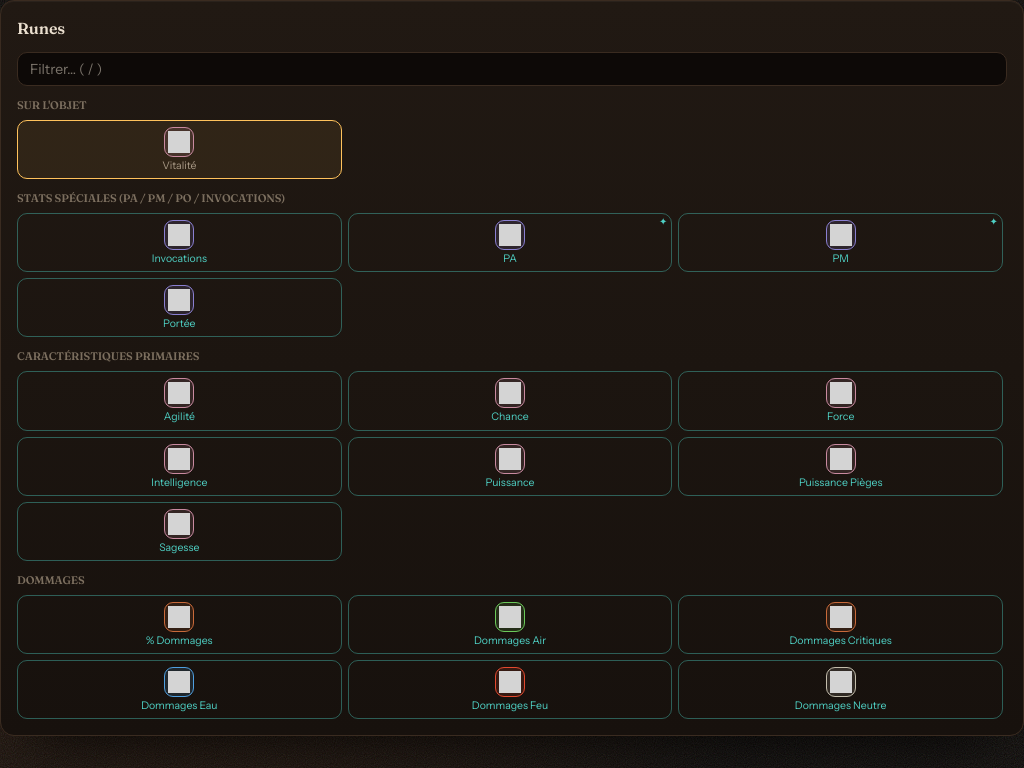
Test case: RunePalette › le filtre sans accents masque les autres tuiles
Type "vitalite" into the search field at (512, 69), box [17,52,1007,86]
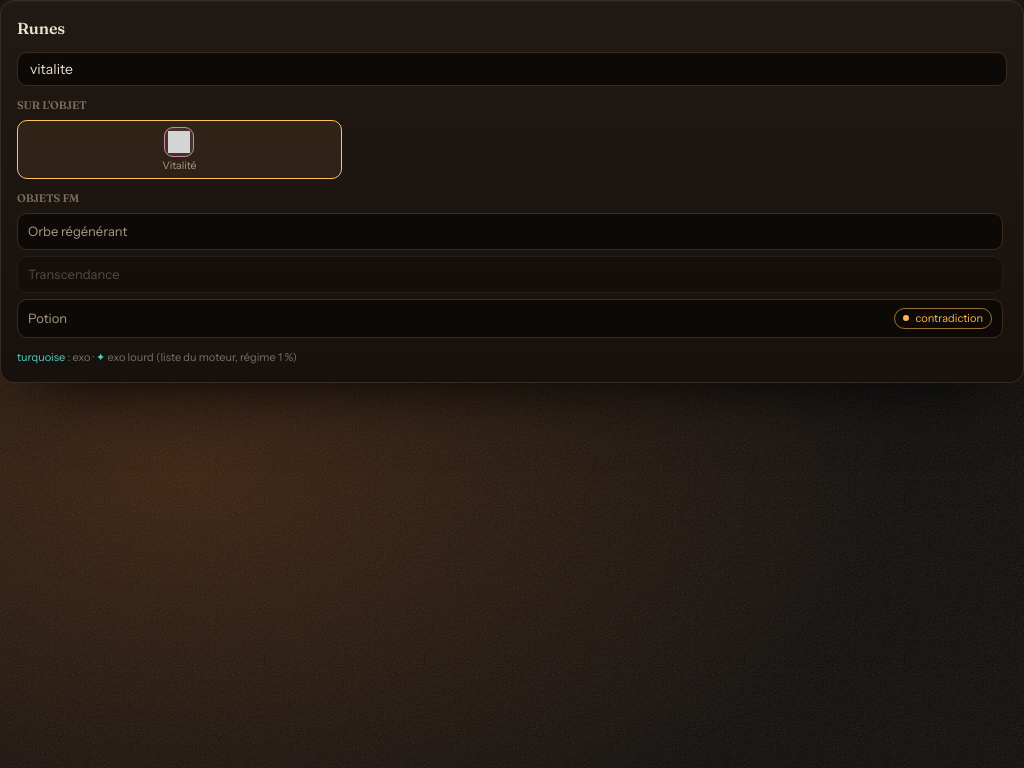
Expected: the heading "PA" is gone
